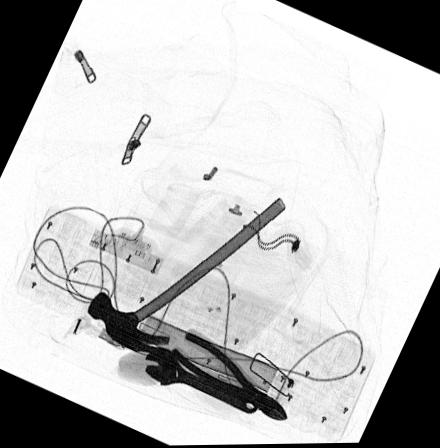Hammer: (85, 197, 289, 354)
Pliers: (165, 323, 290, 426)
Wrench: (141, 347, 259, 415)
